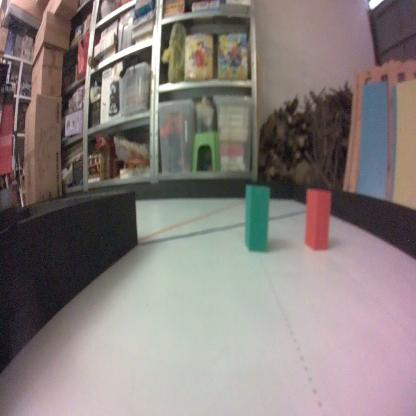green: (243, 183, 269, 254)
red: (302, 183, 331, 252)
